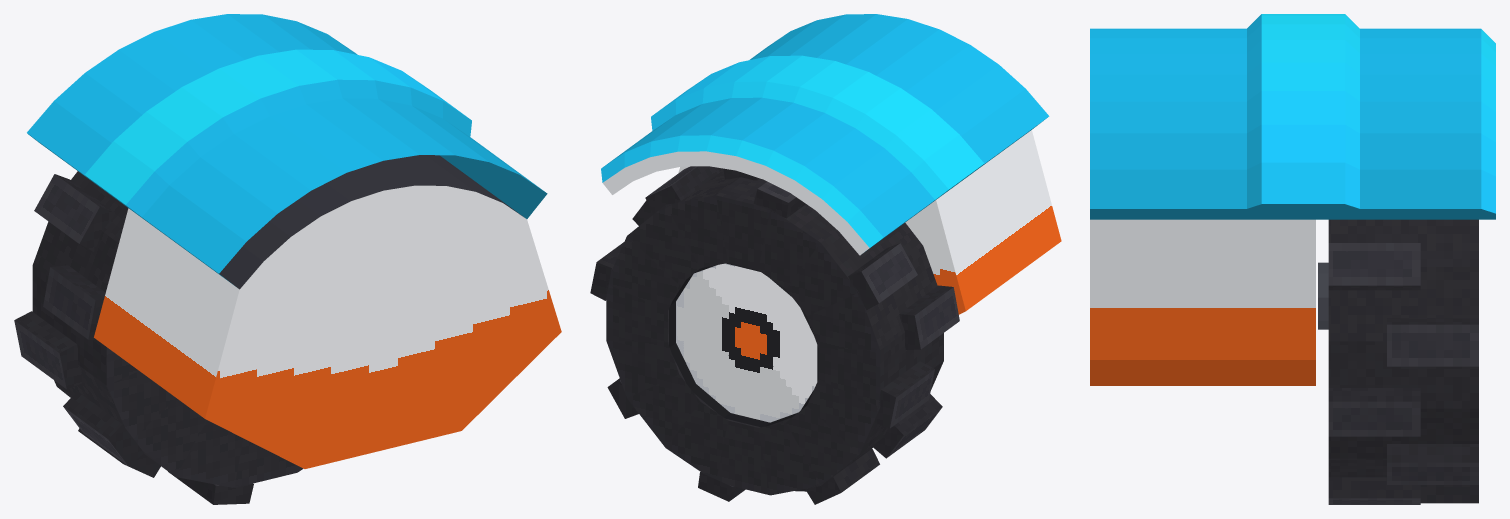
Rendered from aero_wheel.glb.
3 renders of one model, left to right at view 1: azimuth 30°, elevation 25°; view 2: azimuth 150°, elevation 25°; view 3: azimuth 270°, elevation 25°, orthographic. The views are drawn at different scales.
Parts seen in each view (by area): view 1: aero_wheel_body, aero_wheel_tyre; view 2: aero_wheel_tyre, aero_wheel_body; view 3: aero_wheel_body, aero_wheel_tyre.
Boxes of the visible parts, x1=… form: aero_wheel_body: x1=27, y1=14, x2=561, y2=468; aero_wheel_tyre: x1=14, y1=171, x2=303, y2=504; aero_wheel_tyre: x1=590, y1=166, x2=959, y2=504; aero_wheel_body: x1=601, y1=14, x2=1061, y2=314; aero_wheel_body: x1=1090, y1=14, x2=1495, y2=385; aero_wheel_tyre: x1=1318, y1=219, x2=1478, y2=504.
Size of the model in its own units: 1 by 1.17 by 0.97.
1 material, 1 textured.
